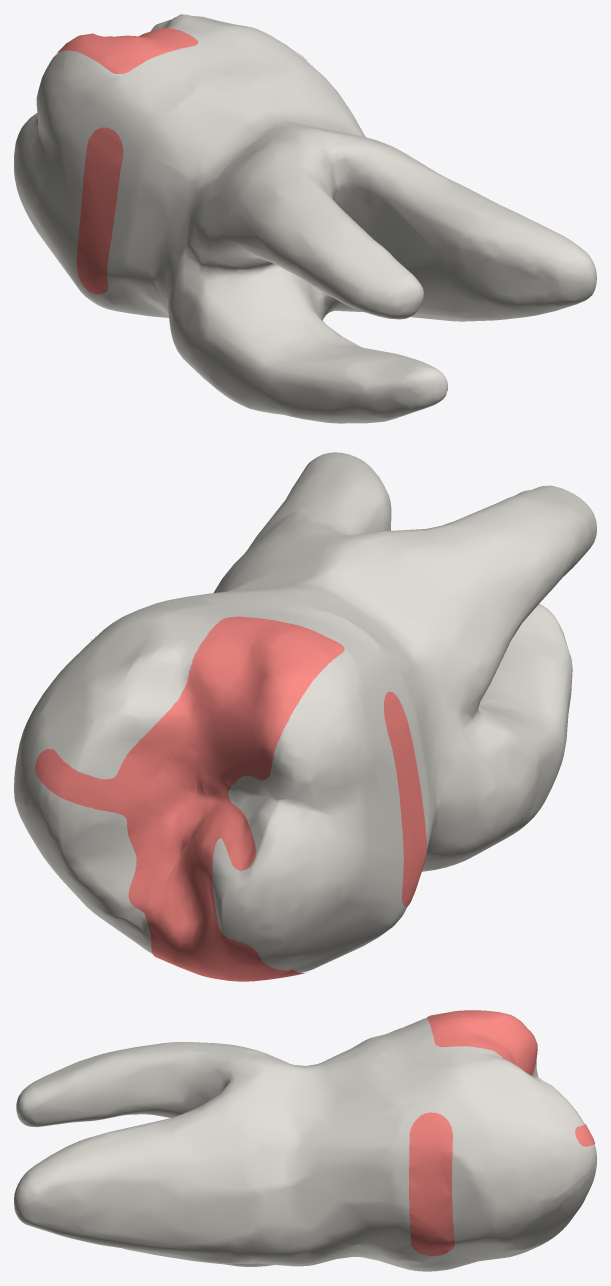
File: tooth_17_FMA55697.glb
3 views of the same model, one above another, from view 1: azimuth 30°, elevation 25°; view 2: azimuth 150°, elevation 25°; view 3: azimuth 270°, elevation 25° (orthographic). The views are drawn at different scales.
Visible parts, largest first — view 1: tooth_17, class5_facial, class2_distal; view 2: tooth_17, class2_distal, class2_mesial, class1, class5_facial, class2_mesial_distal; view 3: tooth_17, class5_lingual, class2_distal.
Boxes of the visible parts, <box> form: tooth_17: <box>14,14,596,423</box>; class5_facial: <box>76,127,123,294</box>; class2_distal: <box>56,27,198,73</box>; tooth_17: <box>14,452,596,972</box>; class2_distal: <box>85,616,344,859</box>; class2_mesial: <box>107,752,306,981</box>; class1: <box>34,747,256,909</box>; class5_facial: <box>384,691,426,906</box>; class2_mesial_distal: <box>113,734,236,845</box>; tooth_17: <box>14,1018,596,1271</box>; class5_lingual: <box>409,1112,454,1255</box>; class2_distal: <box>427,1010,537,1075</box>.
Bounding box in the file's own units: 11.27 × 9.36 × 21.42.
